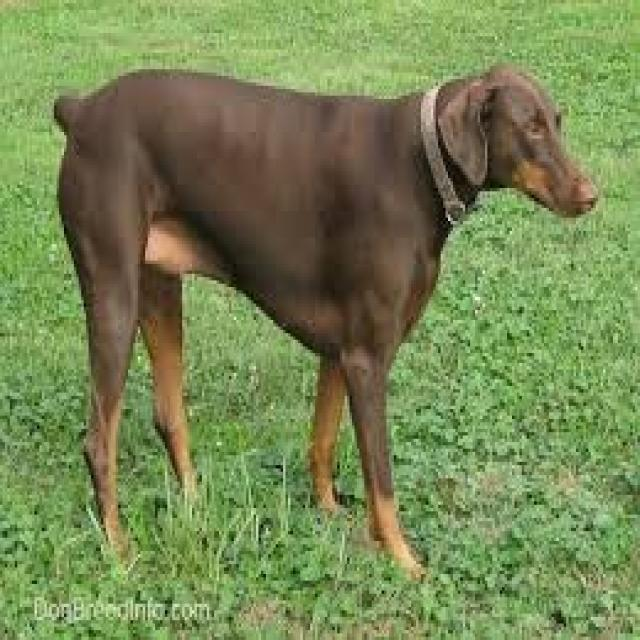Dog: (42, 58, 608, 582)
